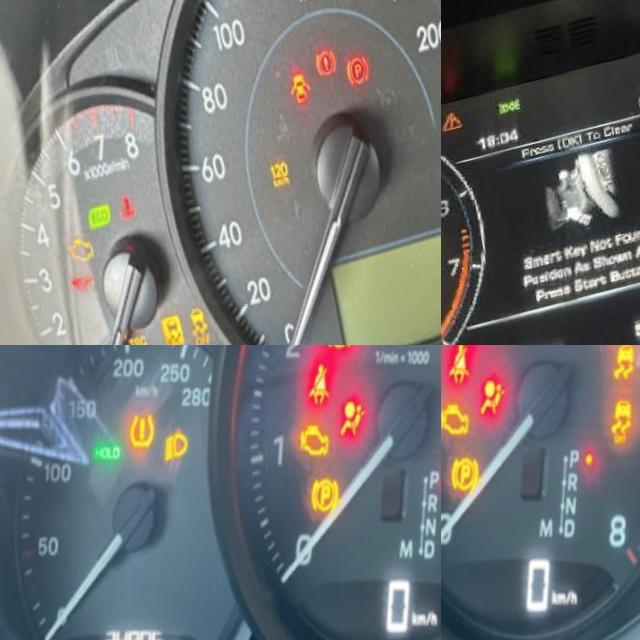High Engine Coolant Temperature: (103, 196, 128, 232)
Low beam: (144, 436, 183, 479)
